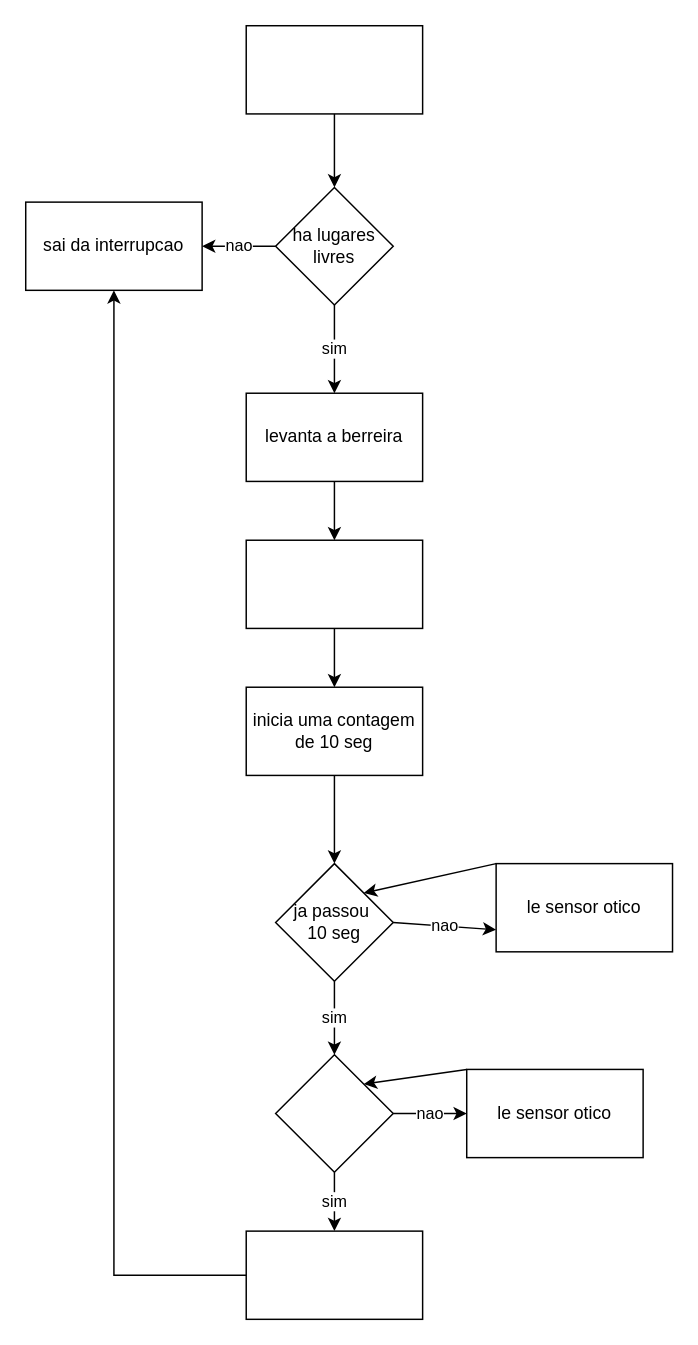
Some shapes in this 698 by 1345 pixel diagram are drawn without their labels. Here are the shapes that lost their labels. From the top down, the centre of each, then its label:
At point (334, 69): "interrupcao 1 (botao 1)".
At point (334, 583): "Coloca o amarelo intermitente".
At point (333, 1112): "verifica se ja passou o carro".
At point (334, 1274): "baixa a barreira".
